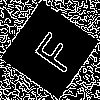F: (25, 25, 80, 76)
